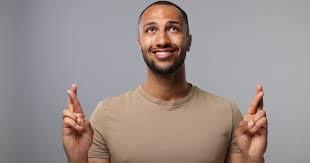person: (134, 0, 200, 76)
